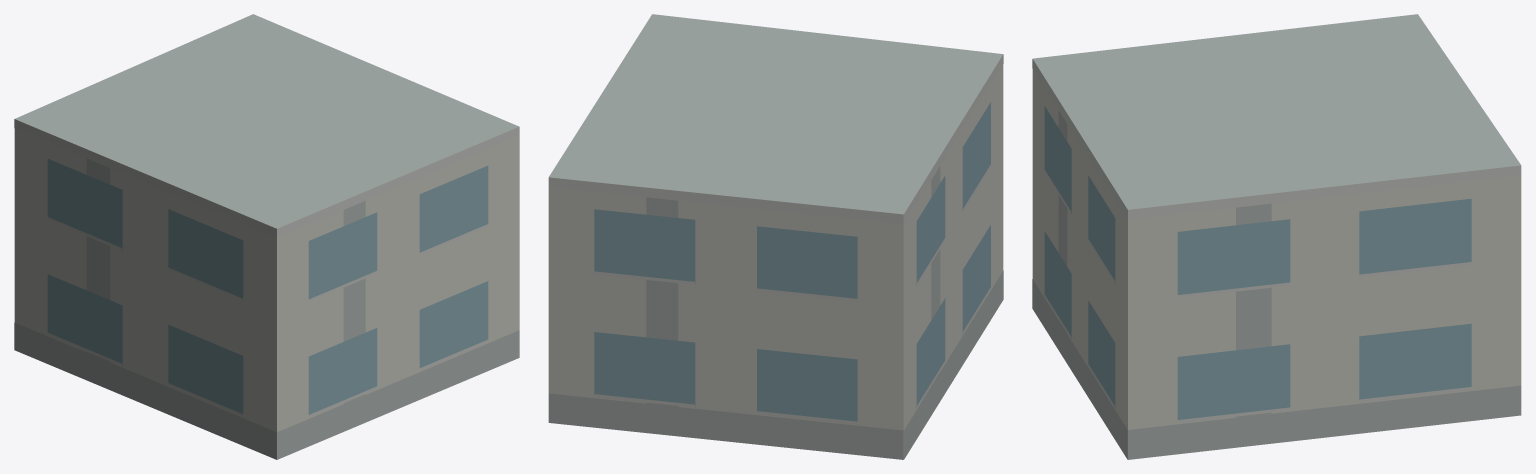
File: survey-upis-33005594.glb
3 renders of one model, left to right at view 1: azimuth 30°, elevation 25°; view 2: azimuth 150°, elevation 25°; view 3: azimuth 270°, elevation 25°, orthographic. The views are drawn at different scales.
Parts seen in each view (by area): view 1: survey-upis-33005594.tmp; view 2: survey-upis-33005594.tmp; view 3: survey-upis-33005594.tmp.
Boxes of the visible parts, x1,y1,x2,y2 form: survey-upis-33005594.tmp: [14, 14, 519, 459]; survey-upis-33005594.tmp: [548, 14, 1003, 459]; survey-upis-33005594.tmp: [1032, 14, 1521, 459].
Size of the model in its own units: 10.26 by 6.1 by 10.82.
